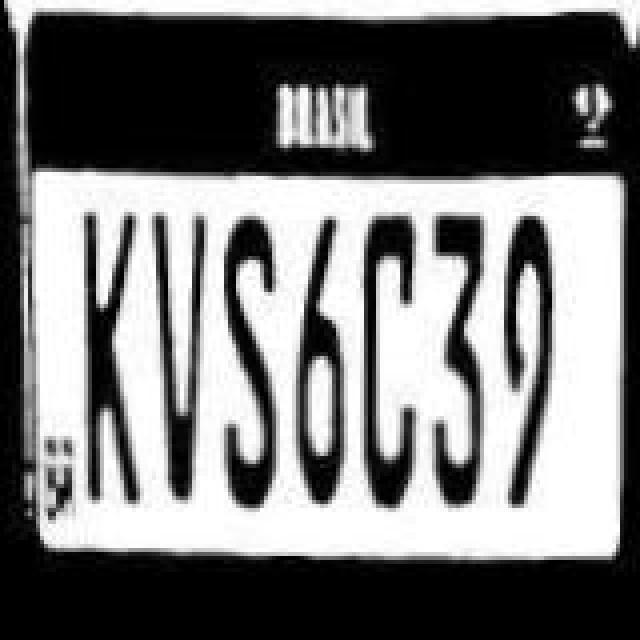3: (426, 214, 502, 530)
6: (284, 210, 364, 518)
9: (496, 210, 576, 522)
C: (360, 218, 432, 530)
K: (58, 192, 142, 500)
S: (208, 204, 288, 508)
V: (142, 198, 210, 514)
